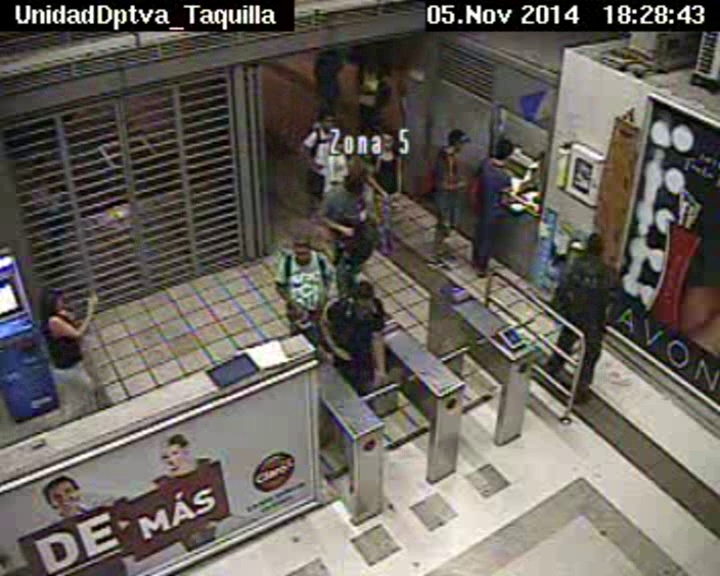person: (37, 282, 65, 314), (290, 235, 317, 264), (352, 280, 377, 310), (443, 126, 469, 153), (340, 171, 367, 197), (583, 233, 607, 261), (490, 136, 515, 161), (317, 109, 338, 132), (378, 130, 398, 152), (363, 54, 380, 71), (326, 41, 338, 55)
